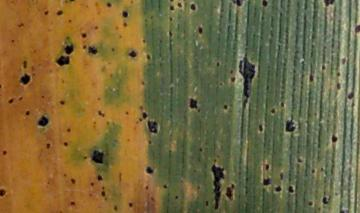tarspot: (237, 51, 257, 109), (210, 157, 226, 209), (89, 149, 106, 165), (146, 119, 159, 137), (54, 54, 72, 67), (224, 183, 236, 201), (282, 119, 296, 134), (35, 114, 49, 129), (228, 1, 248, 10), (187, 96, 198, 111), (19, 73, 32, 85), (63, 42, 75, 55), (86, 44, 98, 55), (321, 194, 331, 205), (321, 1, 336, 8), (144, 165, 154, 175), (127, 49, 137, 59), (262, 176, 271, 187), (352, 23, 360, 35), (188, 2, 197, 12), (54, 8, 64, 17), (339, 55, 348, 65), (196, 25, 204, 36), (96, 172, 104, 183), (257, 123, 264, 135), (117, 170, 123, 184), (121, 9, 130, 18), (330, 134, 338, 144), (96, 110, 106, 118), (269, 106, 276, 117), (21, 59, 28, 70), (1, 187, 8, 198), (167, 3, 175, 12), (63, 35, 72, 43), (260, 1, 270, 8), (287, 184, 294, 194), (308, 72, 314, 83), (346, 92, 354, 100), (273, 184, 281, 192), (121, 20, 129, 28), (175, 1, 183, 9), (65, 127, 73, 135), (309, 167, 317, 175), (140, 111, 148, 119), (279, 101, 286, 110), (104, 2, 113, 9), (296, 156, 303, 165), (127, 200, 134, 209), (100, 189, 107, 198), (336, 80, 341, 92), (263, 163, 270, 171), (16, 21, 24, 28), (44, 142, 51, 150), (70, 177, 77, 185), (1, 148, 8, 156), (7, 97, 14, 105), (139, 79, 146, 87), (222, 102, 228, 111), (278, 172, 284, 181), (339, 207, 348, 213), (24, 109, 30, 118), (145, 52, 151, 61), (299, 57, 305, 66), (29, 64, 35, 73), (80, 32, 87, 39), (123, 110, 130, 117), (95, 9, 102, 16), (307, 199, 313, 207), (64, 1, 80, 4), (43, 9, 49, 17), (59, 98, 65, 106), (112, 204, 118, 212), (17, 94, 23, 102), (229, 75, 235, 82), (214, 60, 221, 66), (173, 193, 179, 200), (80, 44, 87, 50), (61, 141, 68, 147), (320, 64, 326, 71), (69, 199, 75, 206), (95, 95, 102, 101), (167, 30, 174, 36), (195, 184, 201, 191), (60, 78, 66, 85), (125, 137, 132, 143), (204, 199, 209, 207), (168, 14, 173, 22), (218, 80, 224, 86), (197, 146, 203, 152), (335, 71, 341, 77), (146, 139, 152, 145), (88, 182, 94, 188), (149, 195, 155, 201), (138, 104, 144, 110), (93, 25, 99, 31), (66, 17, 72, 23), (118, 33, 124, 39), (61, 172, 67, 178), (162, 183, 167, 190), (83, 154, 88, 161), (10, 37, 15, 44), (141, 38, 146, 45), (110, 46, 115, 53), (114, 24, 119, 31), (264, 84, 269, 91), (319, 166, 324, 172), (144, 185, 150, 190), (94, 1, 98, 8), (229, 68, 233, 74), (109, 71, 113, 77), (129, 1, 134, 5), (40, 94, 44, 99), (100, 185, 105, 189), (1, 83, 4, 88), (168, 1, 174, 2)
